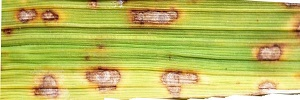RiceBrownSpot: (26, 67, 281, 100), (246, 15, 300, 65), (111, 1, 197, 32), (2, 7, 66, 39)
